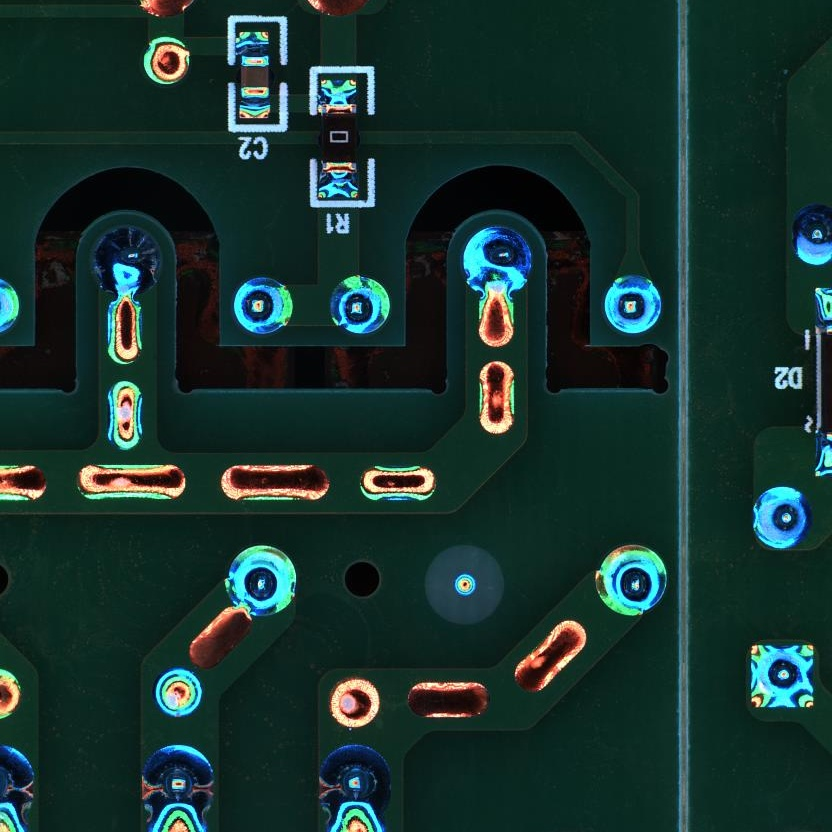spot: (135, 743, 217, 821), (317, 745, 395, 821), (222, 542, 298, 619), (593, 543, 670, 616), (89, 224, 165, 296), (461, 226, 534, 295), (746, 640, 816, 711), (750, 484, 816, 552), (327, 274, 393, 337), (230, 275, 294, 335), (602, 275, 663, 337), (790, 203, 832, 268), (154, 668, 205, 716)
